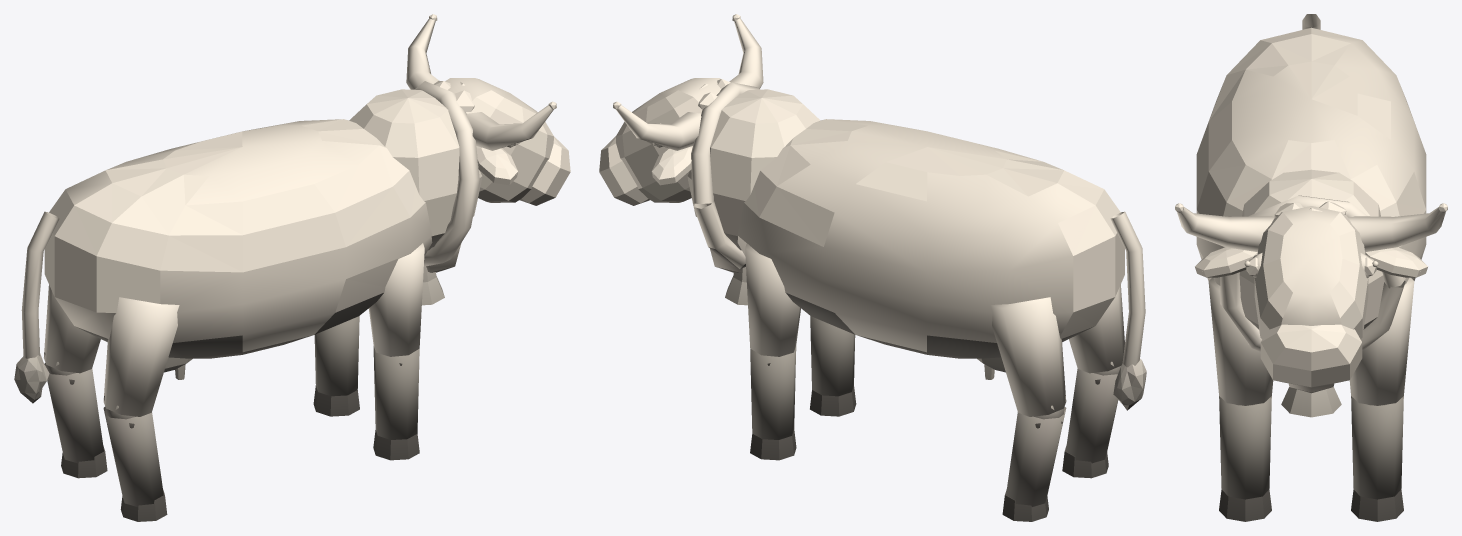
File: SM_VK_Animal_Cow.fbx
The picture shows the model from 3 angles, left to right: view 1: azimuth 30°, elevation 25°; view 2: azimuth 150°, elevation 25°; view 3: azimuth 270°, elevation 25°; orthographic projection. The views are drawn at different scales.
Parts seen in each view (by area): view 1: SM_VK_Animal_Cow.001; view 2: SM_VK_Animal_Cow.001; view 3: SM_VK_Animal_Cow.001.
Boxes of the visible parts, bbox=[...] form: SM_VK_Animal_Cow.001: bbox=[14, 14, 570, 521]; SM_VK_Animal_Cow.001: bbox=[599, 14, 1146, 521]; SM_VK_Animal_Cow.001: bbox=[1175, 14, 1447, 521].
Bounding box in the file's own units: 2.61 × 1.57 × 1.03.
